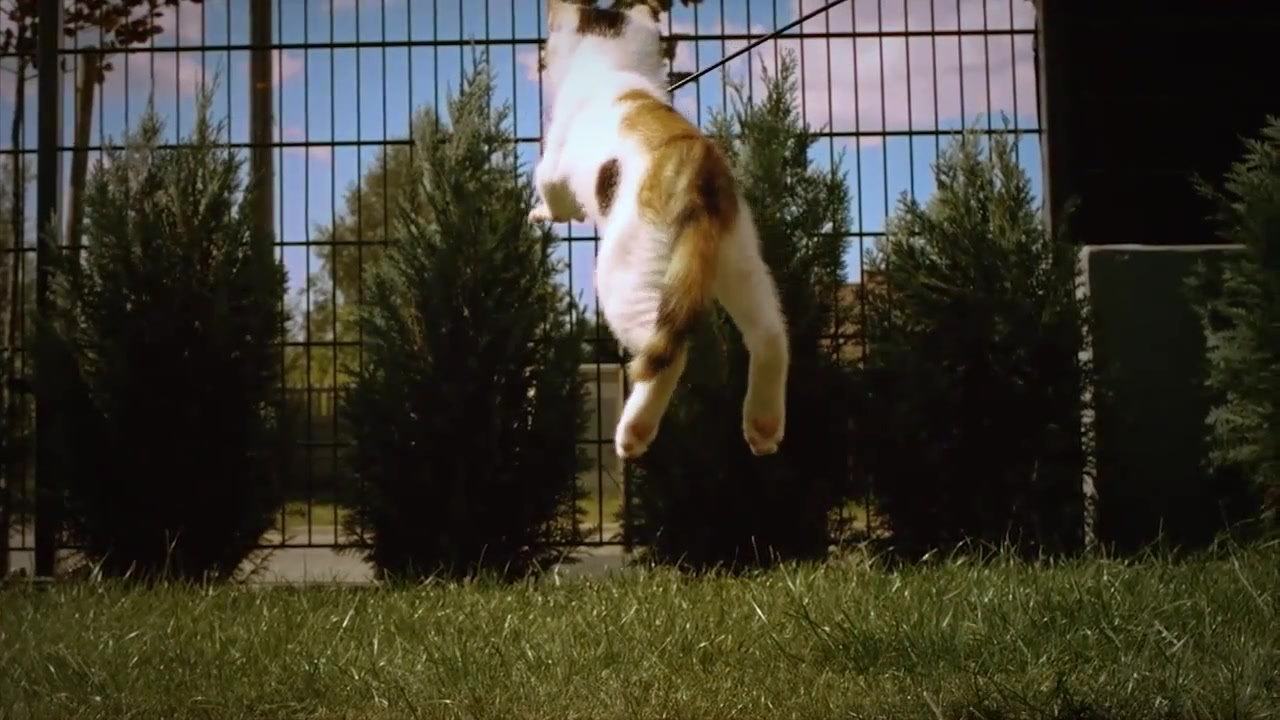cat: (519, 3, 792, 460)
